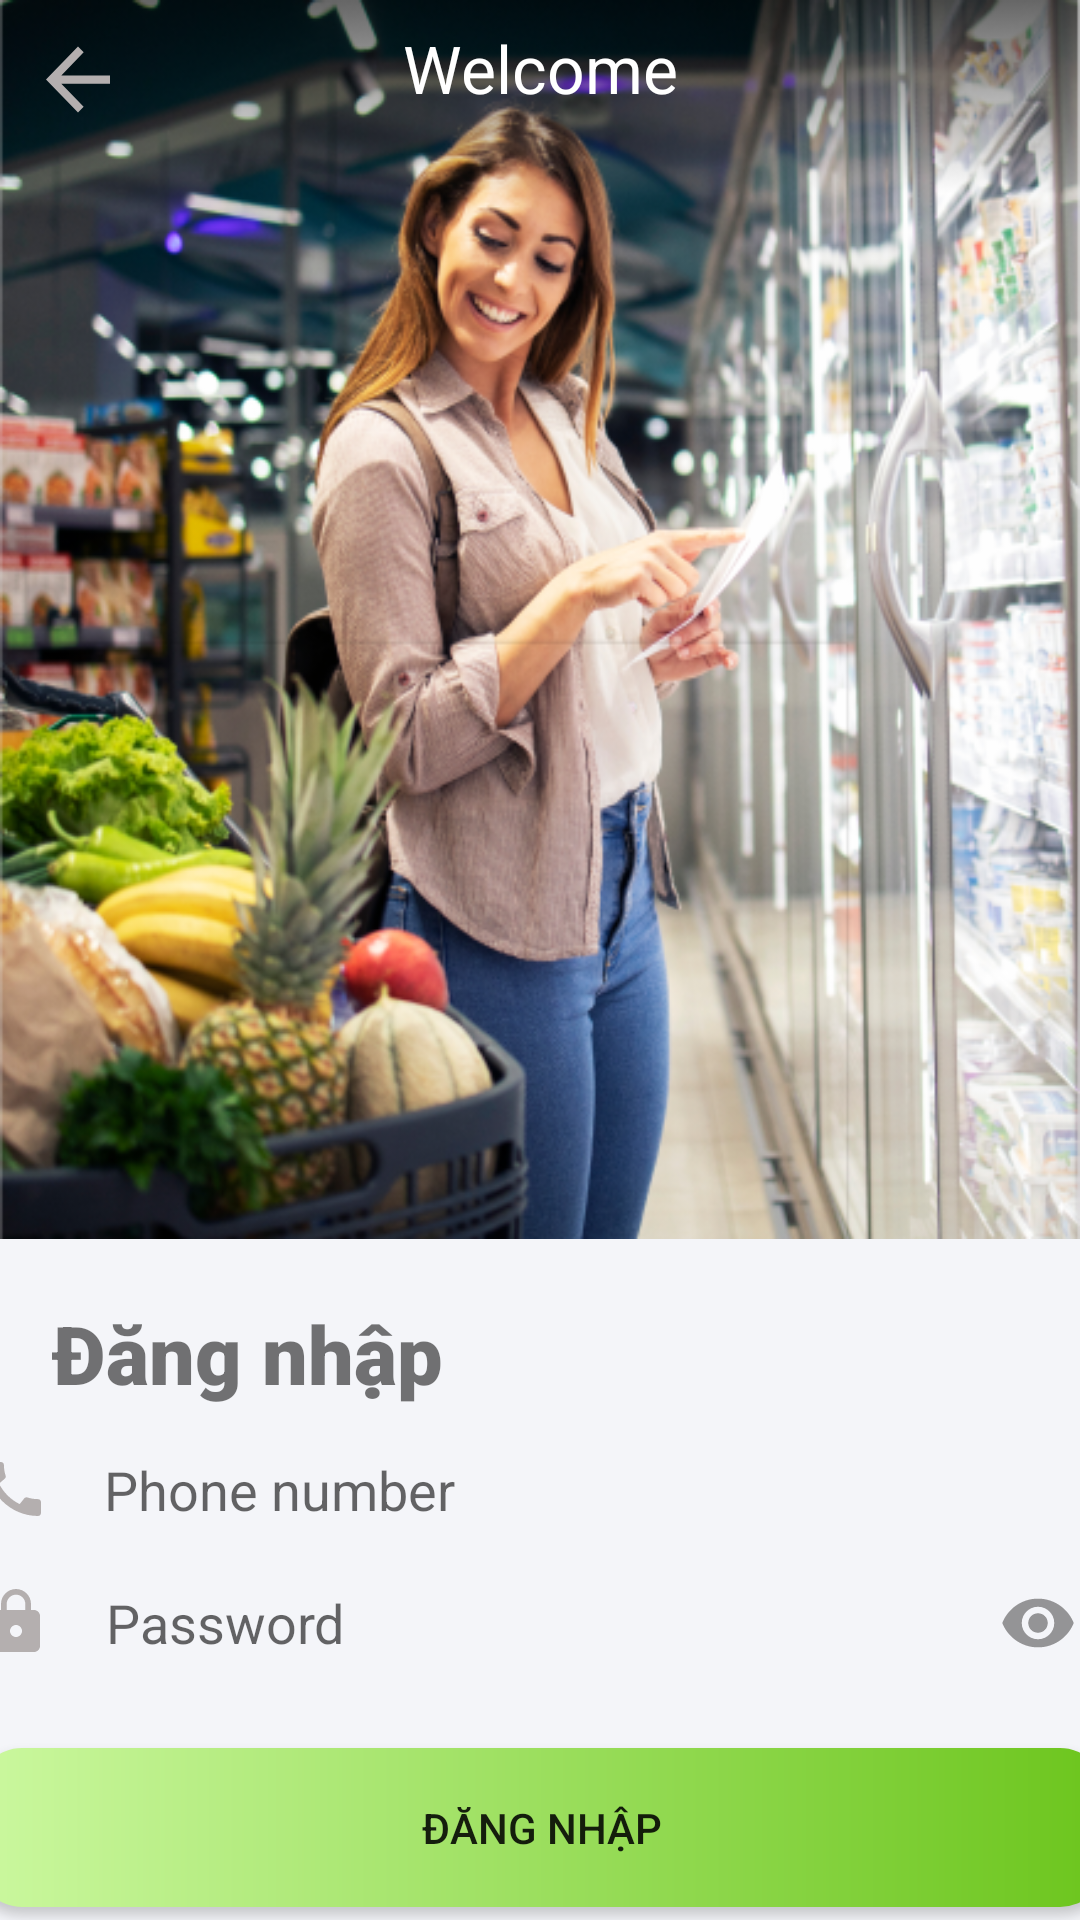

Point at icon controls on the screen. Image size 1080w x 1920h, points as (x=x, y=y).
arrow back: (x=78, y=80)
